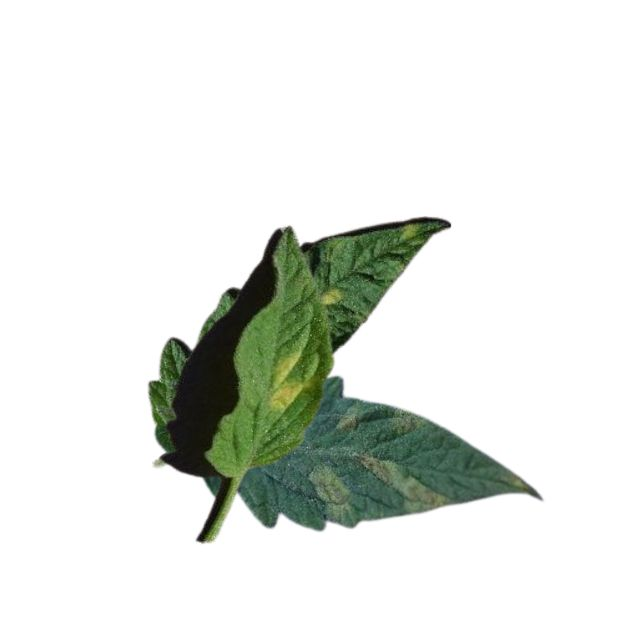Leaf_Mold: (357, 449, 456, 514), (308, 464, 352, 524), (266, 351, 301, 409), (390, 403, 428, 437), (334, 412, 359, 435), (318, 288, 344, 307)
